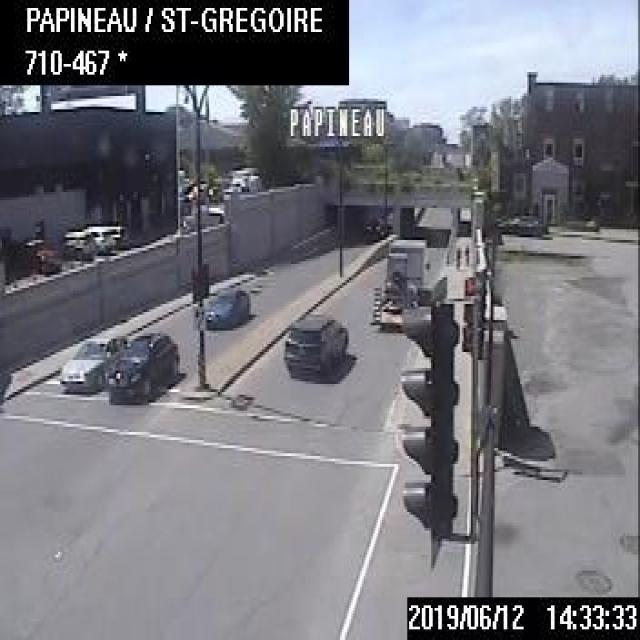pedestrian: (461, 239, 470, 268), (452, 240, 460, 271)
vehicle: (108, 329, 180, 403), (371, 232, 425, 325), (59, 330, 128, 398), (280, 312, 349, 368), (202, 283, 249, 328), (496, 210, 543, 238), (85, 226, 115, 254)
